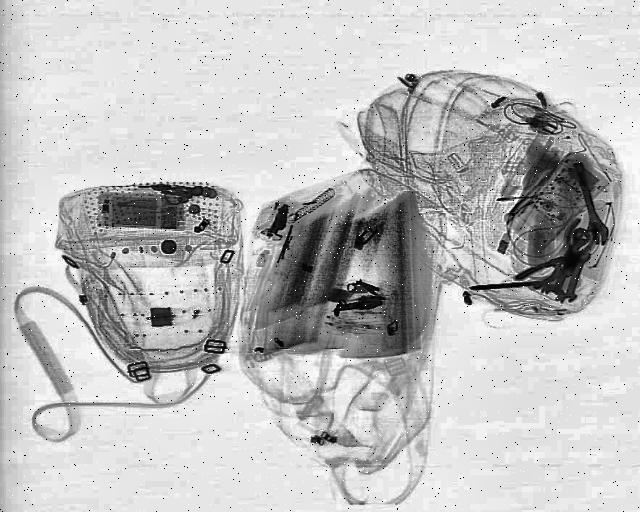Pliers: (514, 246, 582, 292), (549, 218, 599, 266)
Wrench: (566, 162, 610, 246), (554, 250, 592, 304)
